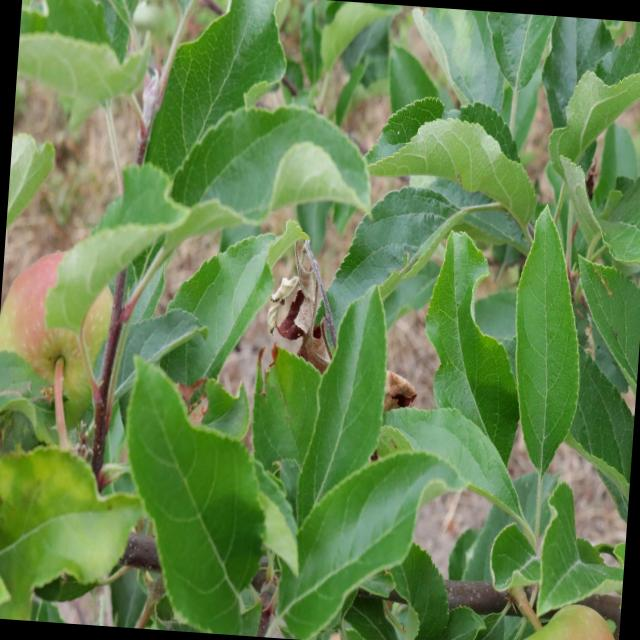-FireBlight-: (260, 227, 343, 374)
